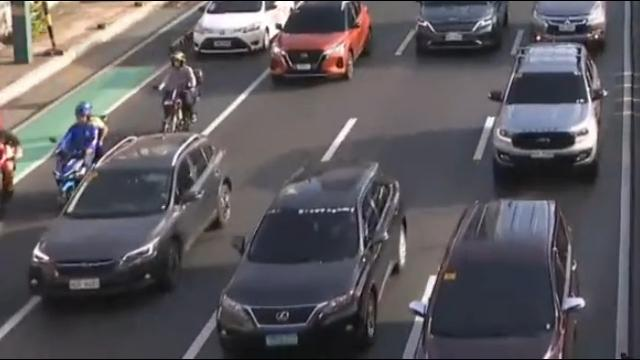car: (217, 158, 408, 359), (27, 132, 232, 306), (409, 198, 588, 357), (491, 43, 604, 185), (266, 0, 375, 84), (189, 0, 298, 55), (415, 0, 513, 54), (530, 0, 610, 45)
motorcycle: (49, 99, 116, 203), (151, 49, 203, 140)
